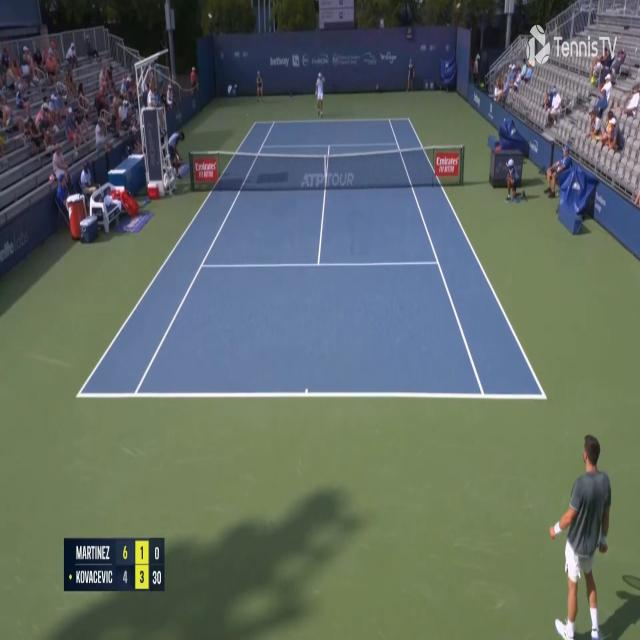tennis-player: (548, 429, 610, 636), (314, 70, 326, 119)
